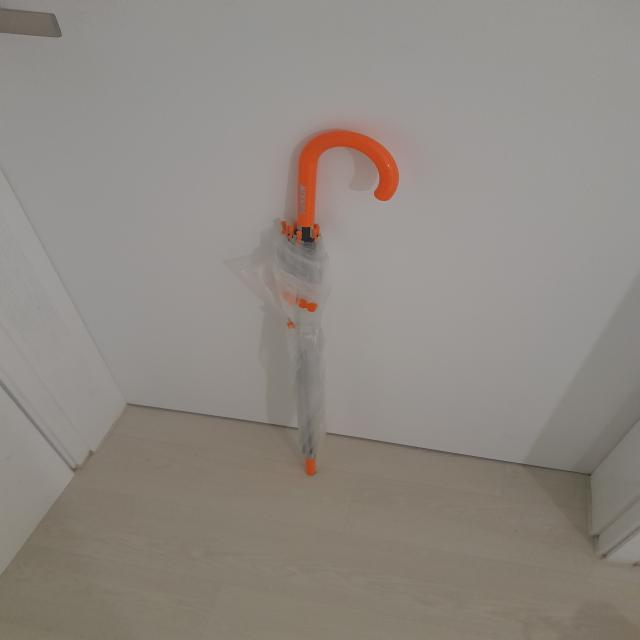umbrella: (261, 132, 396, 475)
